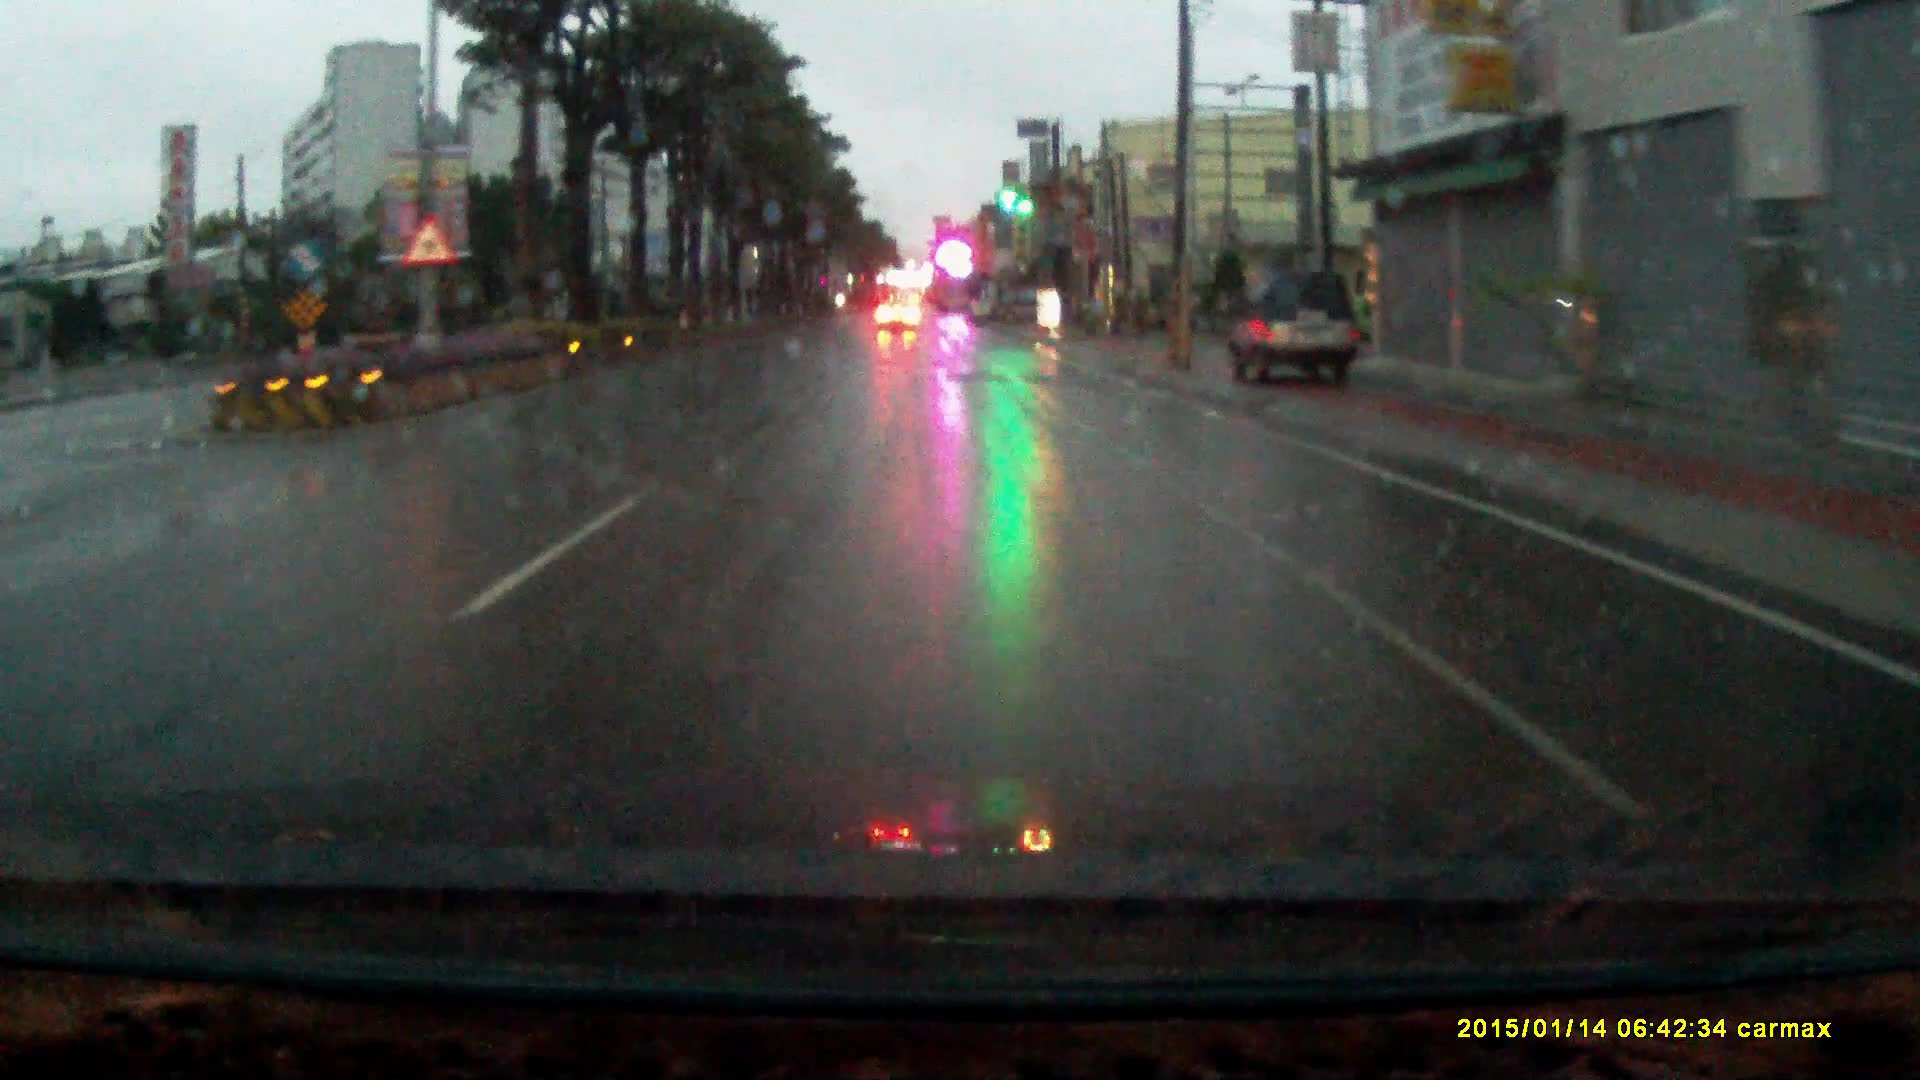vehicle: (1224, 261, 1369, 385), (873, 285, 919, 322)
